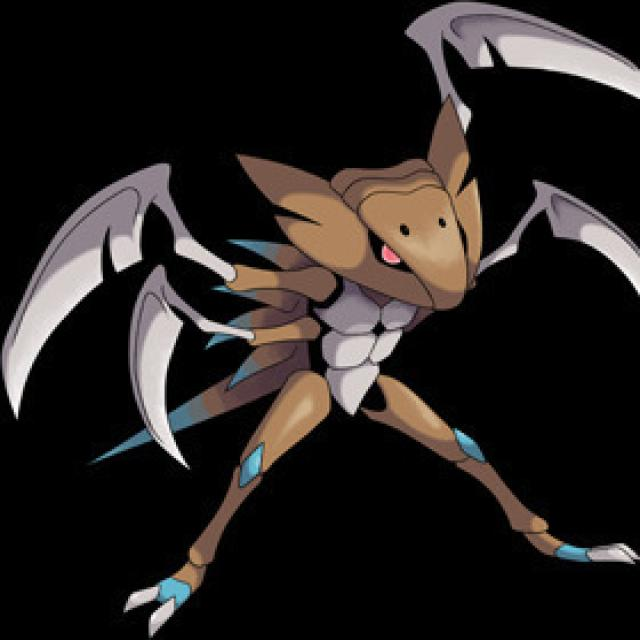Kabutops: (115, 106, 596, 553)
